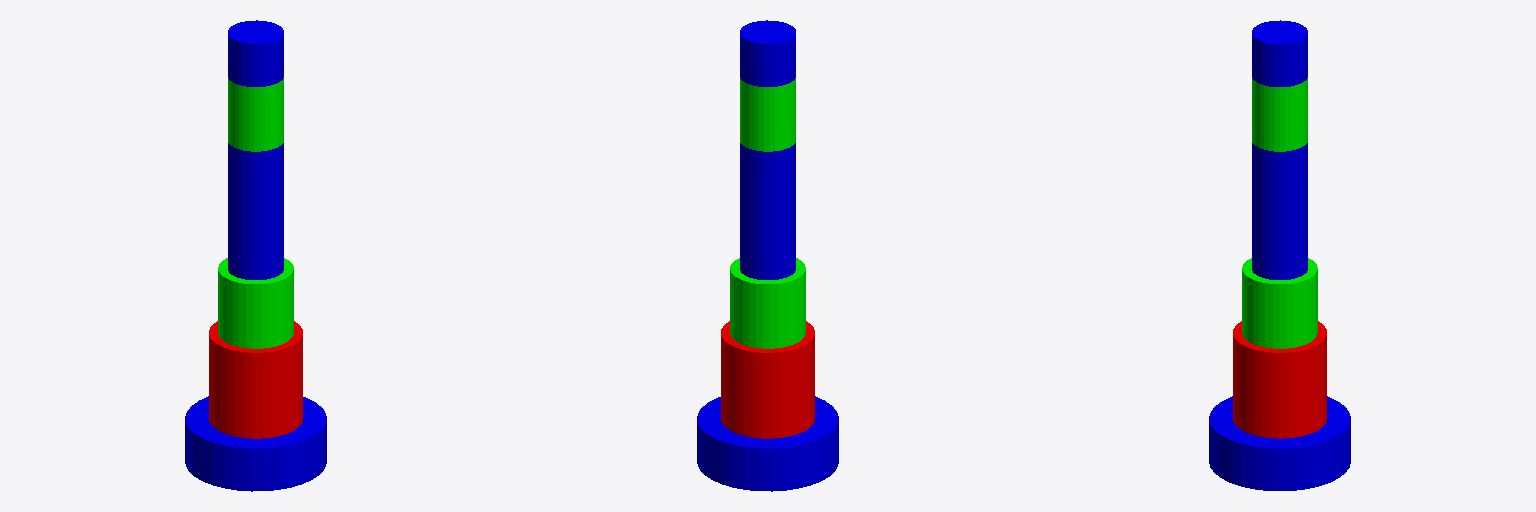
URDF robot description (simple_example):
<?xml version="1.0"?>
<robot name="simple_example">

  <material name="blue">
    <color rgba="0 0 1 1"/>
  </material>

  <material name="red">
    <color rgba="1 0 0 1"/>
  </material>

  <material name="green">
    <color rgba="0 1 0 1"/>
  </material>

  <link name="base_link">
    
    <inertial>
        <mass value="10" />
        <inertia ixx="0.4" ixy="0.0" ixz="0.0" iyy="0.4" iyz="0.0" izz="0.2"/>
    </inertial>

    <collision>
      <geometry>
        <cylinder radius="0.15" length="0.1" />
      </geometry>
    </collision>
    
    <visual>
      <origin xyz="0.0 0 0.05" rpy="0 0 0" />
      <geometry>
        <cylinder radius="0.15" length="0.1" />
      </geometry>
    <material name="blue"/>    
    </visual>

  </link>
  <joint name="base_to_second_link" type="revolute">
    <axis xyz="0 0 1"/>
    <limit effort="1" lower="1.57" upper="-1.57" velocity="1.0"/>
    <parent link="base_link"/>
    <child link="second_link"/>
    <origin  xyz="0.0 0 0.1" rpy="0.0 0.0 1.57"/> 
  </joint>

  <link name="second_link">  
    <inertial>
        <mass value="0.18" />
        <inertia ixx="0.0002835" ixy="0.0" ixz="0.0" iyy="0.0002835" iyz="0.0" izz="0.000324" />
    </inertial>
    <collision>
      <geometry>
        <cylinder radius="0.10" length="0.2" />
      </geometry>
    </collision>
    <visual>
    <origin rpy="0.0 0.0 0.0" xyz="0.0 0.0 0.10" />
      <geometry>
        <cylinder radius="0.10" length="0.2" />
      </geometry>
    <material name="red"/>
    </visual>
  </link>

  <joint name="second_to_third_joint" type="revolute">
    <axis xyz="1 0 0"/>
    <limit effort="1" lower="1.57" upper="-1.57" velocity="1.0"/>
    <parent link="second_link"/>
    <child link="third_link"/>
    <origin  xyz="0.0 0 0.2" rpy="0.0 0.0 1.57"/> 
  </joint>


  <link name="third_link">
    
    <inertial>
        <mass value="0.18" />
        <inertia ixx="0.0002835" ixy="0.0" ixz="0.0" iyy="0.0002835" iyz="0.0" izz="0.000324" />
    </inertial>

    <collision>
      <geometry>
        <cylinder radius="0.08" length="0.15" />
      </geometry>
    </collision>

    <visual>
    <origin rpy="0.0 0 0.0" xyz="0.0 0.0 0.075" />
      <geometry>
        <cylinder radius="0.08" length="0.15"/>
      </geometry>
    <material name="green"/>
    </visual>
  </link>

  <joint name="third_to_fourth_joint" type="revolute">
    <axis xyz="1 0 0"/>
    <limit effort="1" lower="1.57" upper="-1.57" velocity="1.0"/>
    <parent link="third_link"/>
    <child link="fourth_link"/>
    <origin  xyz="0.0 0 0.15" rpy="0.0 0.0 1.57"/> 
  </joint>

  <link name="fourth_link"> 
    <inertial>
        <mass value="0.18" />
        <inertia ixx="0.0002835" ixy="0.0" ixz="0.0" iyy="0.0002835" iyz="0.0" izz="0.000324" />
    </inertial>

    <collision>
      <geometry>
        <cylinder radius="0.08" length="0.3" />
      </geometry>
    </collision>

    <visual>
    <origin rpy="0.0 0 0.0" xyz="0.0 0.0 0.15" />
      <geometry>
        <cylinder radius="0.06" length="0.3" />
      </geometry>
    <material name="blue"/>    
    </visual>
  </link>

  <joint name="fourth_to_fifth_joint" type="revolute">
    <axis xyz="1 0 0"/>
    <limit effort="1" lower="1.57" upper="-1.57" velocity="1.0"/>
    <parent link="fourth_link"/>
    <child link="fifth_link"/>
    <origin  xyz="0.0 0 0.3" rpy="0.0 0.0 1.57"/> 
  </joint>

  <link name="fifth_link"> 
    <inertial>
        <mass value="0.18" />
        <inertia ixx="0.0002835" ixy="0.0" ixz="0.0" iyy="0.0002835" iyz="0.0" izz="0.000324" />
    </inertial>

    <collision>
      <geometry>
        <cylinder radius="0.06" length="0.15" />
      </geometry>
    </collision>

    <visual>
    <origin rpy="0.0 0 0.0" xyz="0.0 0.0 0.075" />
      <geometry>
        <cylinder radius="0.06" length="0.15" />
      </geometry>
    <material name="green"/>    
    </visual>
  </link>

  <joint name="fifth_to_sixth_joint" type="revolute">
    <axis xyz="1 0 0"/>
    <limit effort="1" lower="1.57" upper="-1.57" velocity="1.0"/>
    <parent link="fifth_link"/>
    <child link="sixth_link"/>
    <origin  xyz="0.0 0 0.15" rpy="0.0 0.0 1.57"/> 
  </joint>


  <link name="sixth_link"> 
    <inertial>
        <mass value="0.18" />
        <inertia ixx="0.0002835" ixy="0.0" ixz="0.0" iyy="0.0002835" iyz="0.0" izz="0.000324" />
    </inertial>

    <collision>
      <geometry>
        <cylinder radius="0.06" length="0.10" />
      </geometry>
    </collision>

    <visual>
    <origin rpy="0.0 0 0.0" xyz="0.0 0.0 0.05" />
      <geometry>
        <cylinder radius="0.06" length="0.1" />
      </geometry>
    <material name="blue"/>    
    </visual>
  </link>





</robot>

--- What the picture shows (computed from the rendered views, not written in the file) ---
3 views of the same robot in one strip: view 1: azimuth 30°, elevation 25°; view 2: azimuth 150°, elevation 25°; view 3: azimuth 270°, elevation 25° (orthographic).
Model simple_example with 6 links and 5 joints (5 revolute), rooted at base_link, posed every joint at zero.
Visible links, largest first — view 1: second_link, base_link, fourth_link, third_link, fifth_link, sixth_link; view 2: second_link, base_link, fourth_link, third_link, fifth_link, sixth_link; view 3: second_link, base_link, fourth_link, third_link, fifth_link, sixth_link.
Boxes of the visible links, bbox=[...] form: second_link: bbox=[209, 321, 302, 438]; base_link: bbox=[185, 396, 326, 491]; fourth_link: bbox=[228, 143, 283, 279]; third_link: bbox=[218, 258, 293, 348]; fifth_link: bbox=[228, 78, 283, 151]; sixth_link: bbox=[228, 20, 283, 86]; second_link: bbox=[721, 321, 814, 438]; base_link: bbox=[697, 396, 838, 491]; fourth_link: bbox=[740, 143, 795, 279]; third_link: bbox=[730, 258, 805, 348]; fifth_link: bbox=[740, 78, 795, 151]; sixth_link: bbox=[740, 20, 795, 86]; second_link: bbox=[1233, 321, 1326, 438]; base_link: bbox=[1209, 396, 1350, 490]; fourth_link: bbox=[1252, 143, 1307, 279]; third_link: bbox=[1242, 258, 1317, 348]; fifth_link: bbox=[1252, 78, 1307, 151]; sixth_link: bbox=[1252, 20, 1307, 86].
Bounding box of the posed robot: 0.3 × 0.3 × 1 m (x, y, z).
Geometry: primitives only (box / cylinder / sphere), no mesh files.